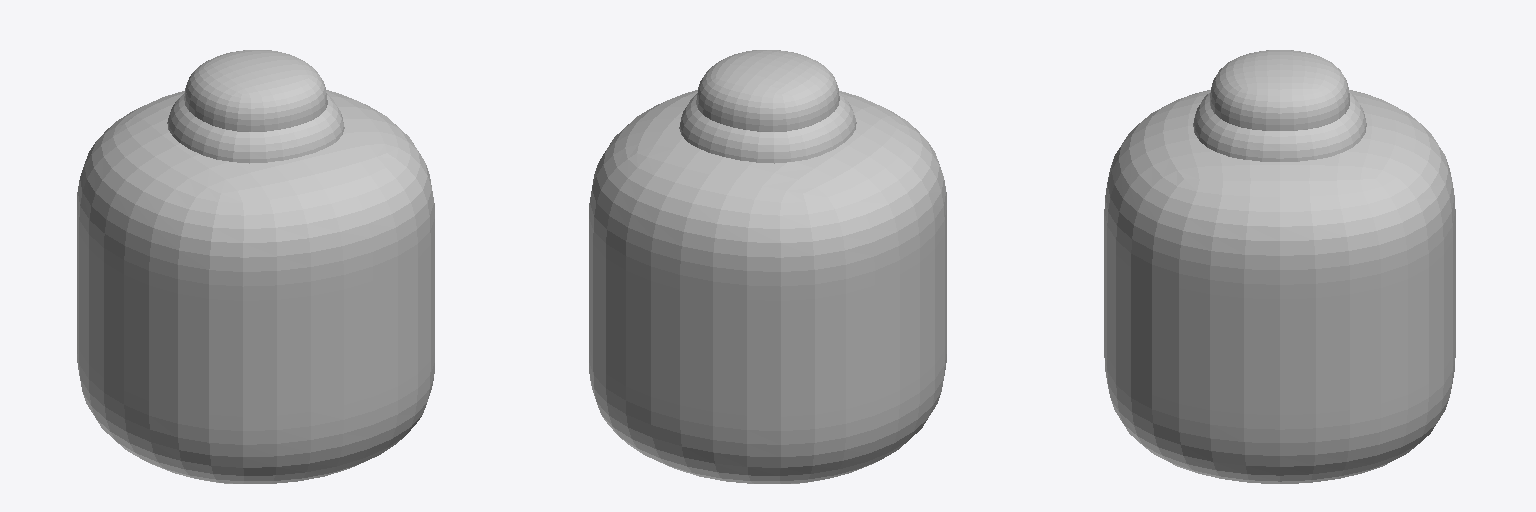
Rendered from button.obj.
The picture shows the model from 3 angles: view 1: azimuth 30°, elevation 25°; view 2: azimuth 150°, elevation 25°; view 3: azimuth 270°, elevation 25°; orthographic projection.
Parts seen in each view (by area): view 1: Cube; view 2: Cube; view 3: Cube.
Boxes of the visible parts, x1=… form: Cube: x1=77, y1=50, x2=434, y2=483; Cube: x1=589, y1=50, x2=946, y2=483; Cube: x1=1104, y1=50, x2=1455, y2=483.
Bounding box in the file's own units: 3.67 × 4.41 × 3.67.